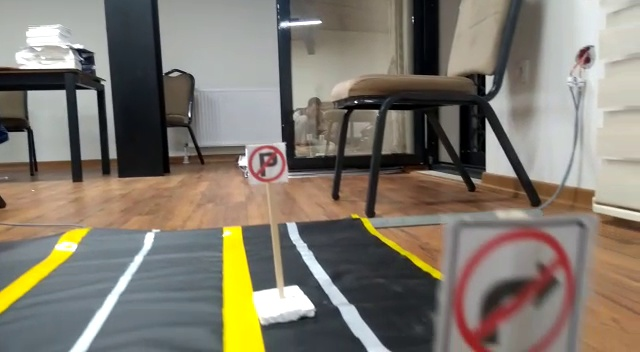park_yapilmaz: (244, 143, 290, 182)
saga_donulmez: (444, 212, 589, 352)
